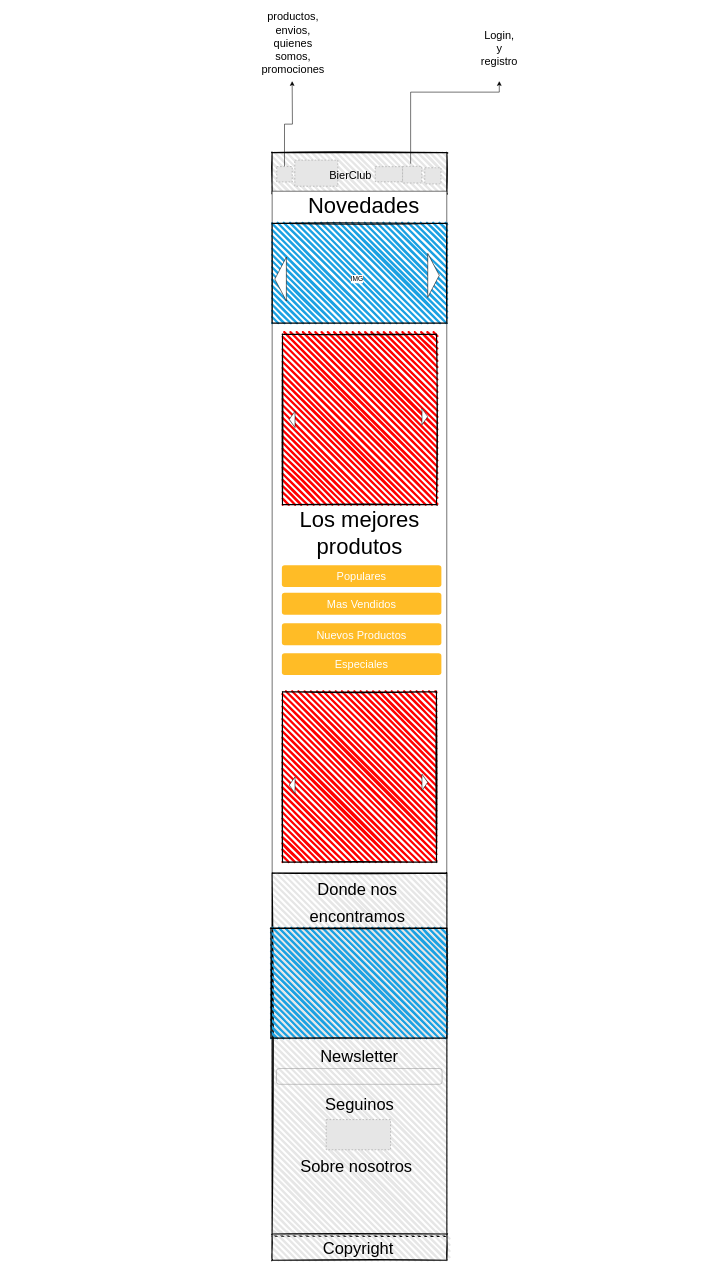
Some shapes in this 728 by 1270 pixel diagram are drawn without their labels. Grey dashed boxes stand in for pictures. The shapes that lost their labels are listed below. From the top down, each one's box as (x1, y1, x2, y2) in pixels, then its label:
(270, 927, 447, 1038): Google map
(276, 1068, 442, 1084): Email
